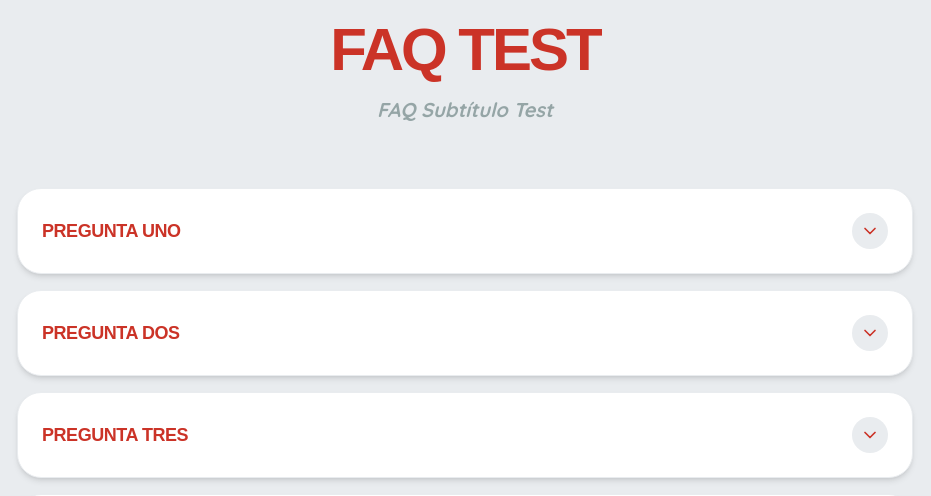
FAQ consumes useSiteConfig › renders exactly 5 saved items and sanitizes the HTML answer on open
This screenshot has width=931, height=496.
Check: the heading "FAQ Test" is shown, box [330,16,600,83]
Check: the text "FAQ Subtítulo Test" is shown, box [377,97,553,122]
// Open the first item — sanitized HTML answer renders
Click the button "PREGUNTA UNO".
click(111, 231)  # box [18,189,912,273]
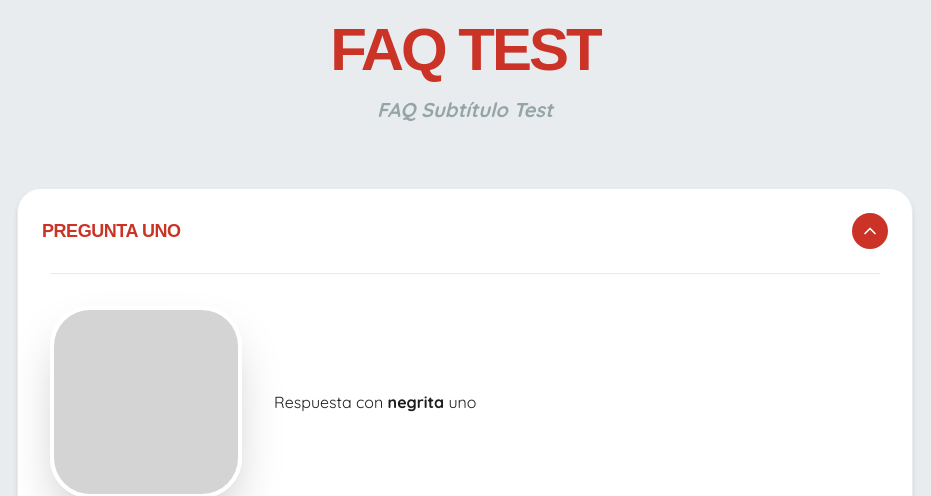
Check: the text "Respuesta con negrita uno" is shown, box [274,392,476,412]
Check: the text "negrita" is shown, box [388,392,444,412]
